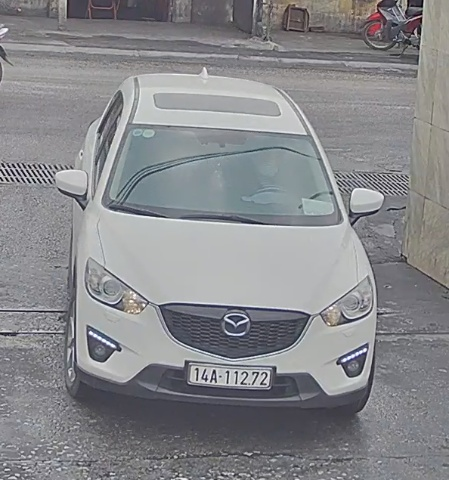vehicle plate: (179, 359, 279, 394)
